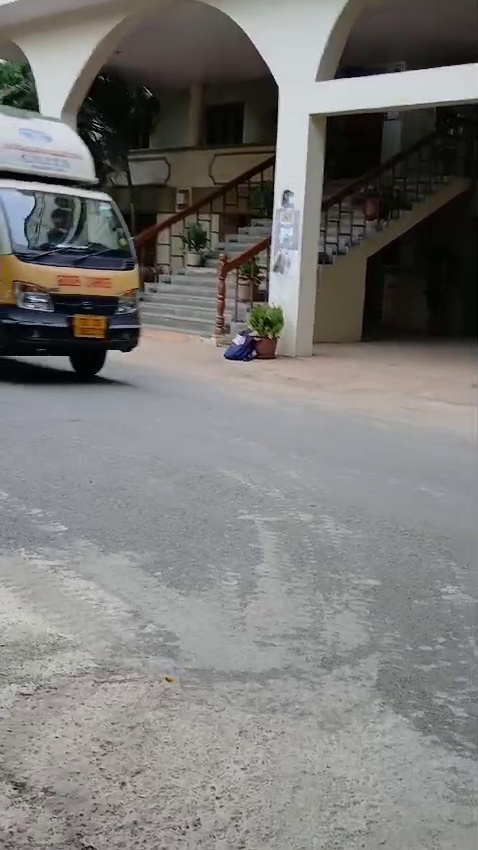bag: (223, 320, 254, 365)
